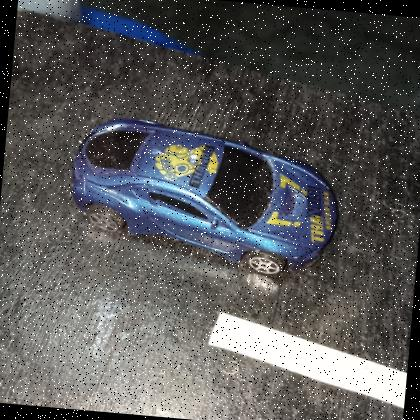Car: (70, 118, 339, 278)
